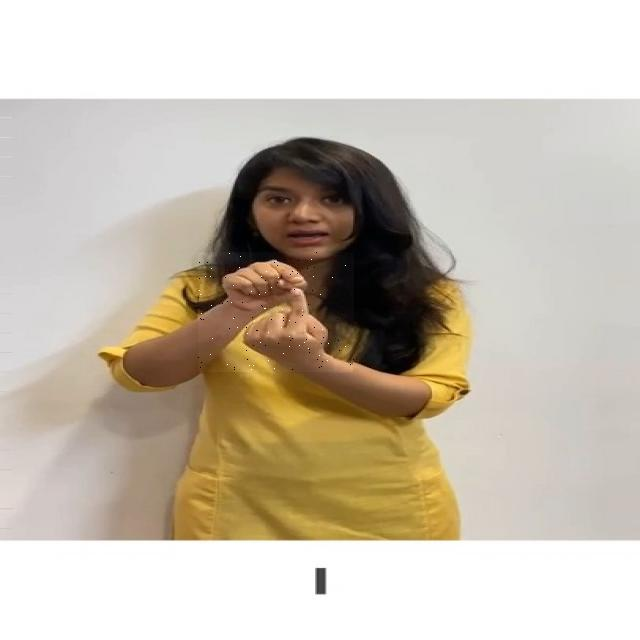I: (198, 252, 354, 372)
